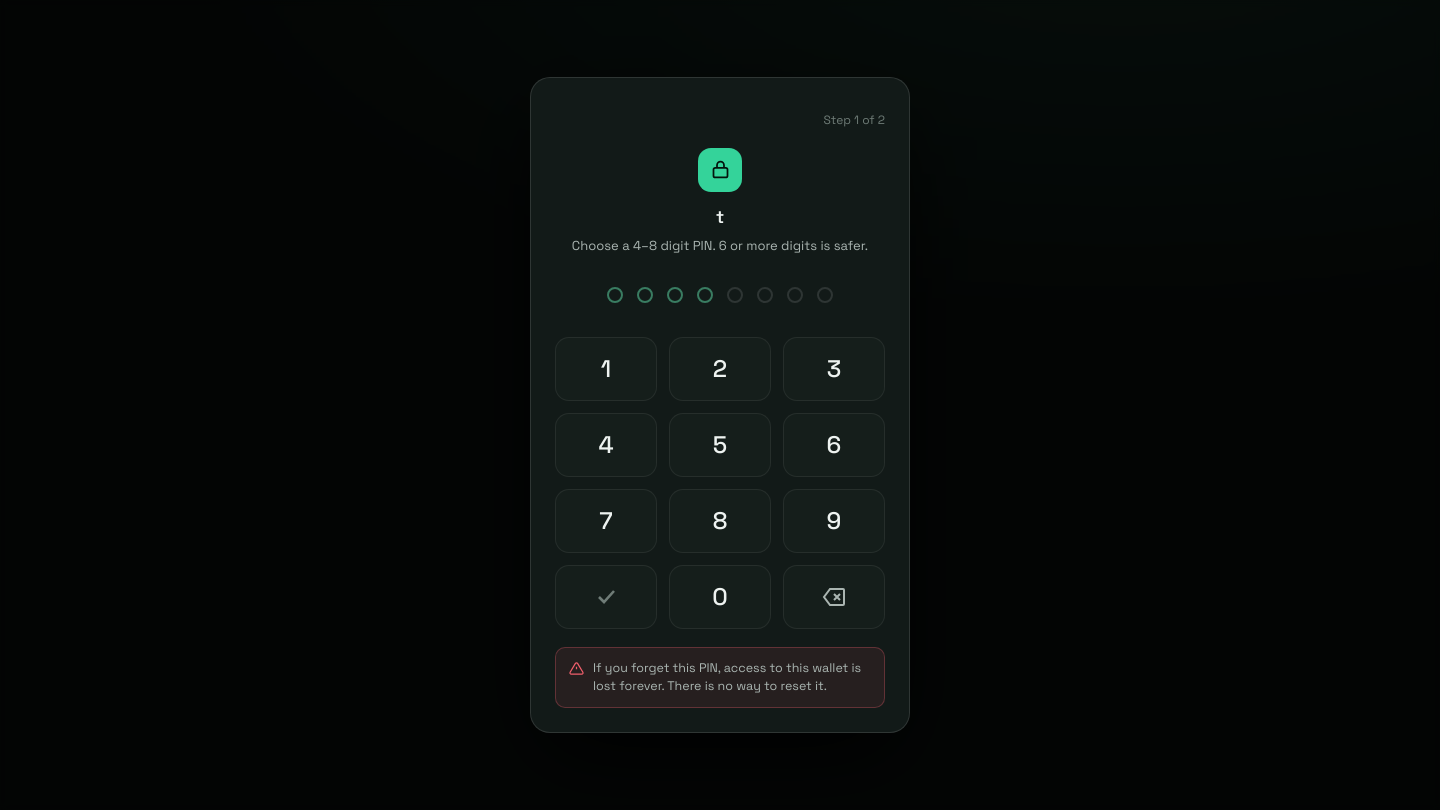
Test: PinSetup › hands over the PIN only after the second entry matches
Later steps or results of the test are not shown.
Check: the text "Step 1 of 2" is shown, box [824, 112, 885, 128]
Click the button "2".
click(720, 369)  # box [669, 337, 771, 401]
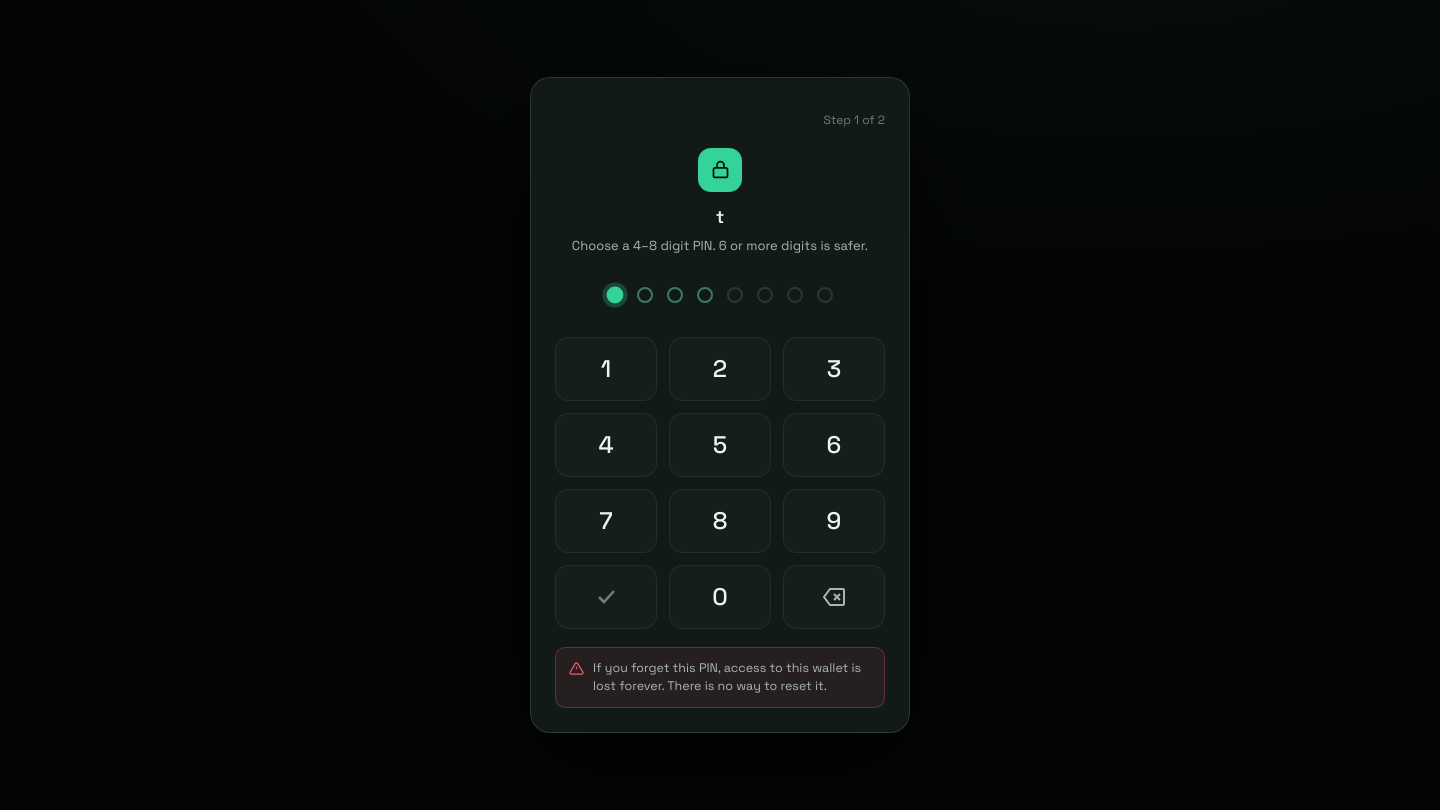
Click the button "5".
click(720, 445)  # box [669, 413, 771, 477]
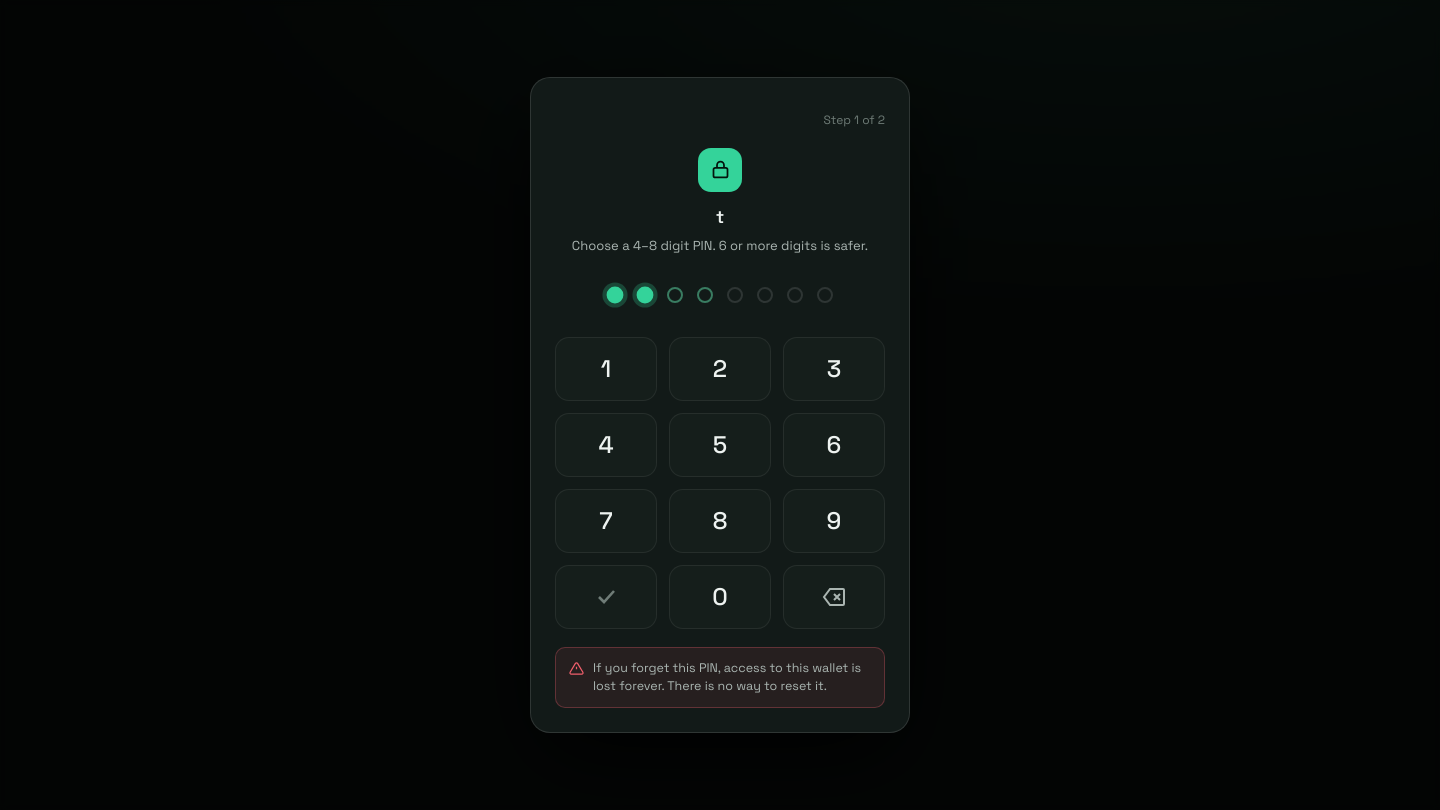
Click the button "8".
click(720, 521)  # box [669, 489, 771, 553]
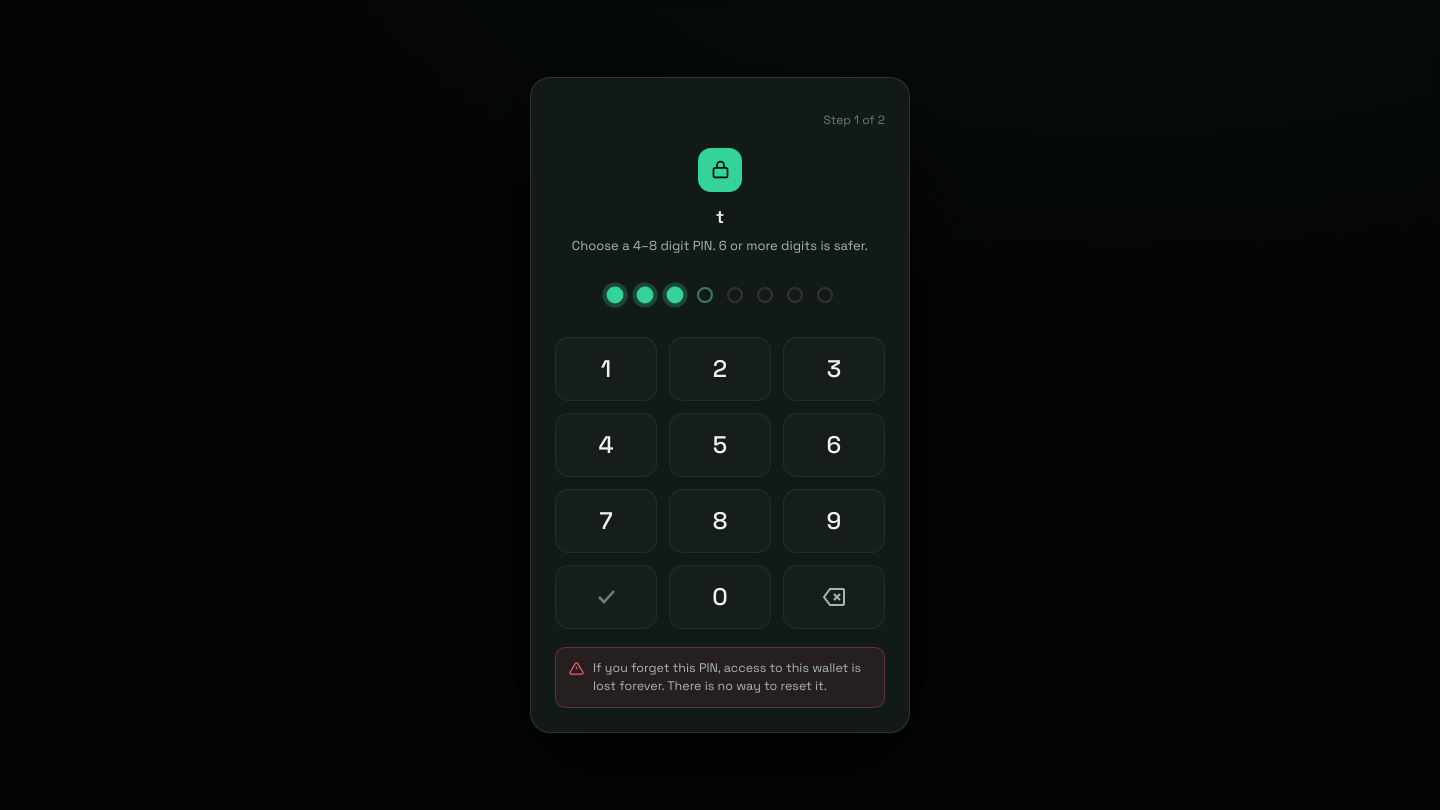
Click the button "0".
click(720, 597)  # box [669, 565, 771, 629]
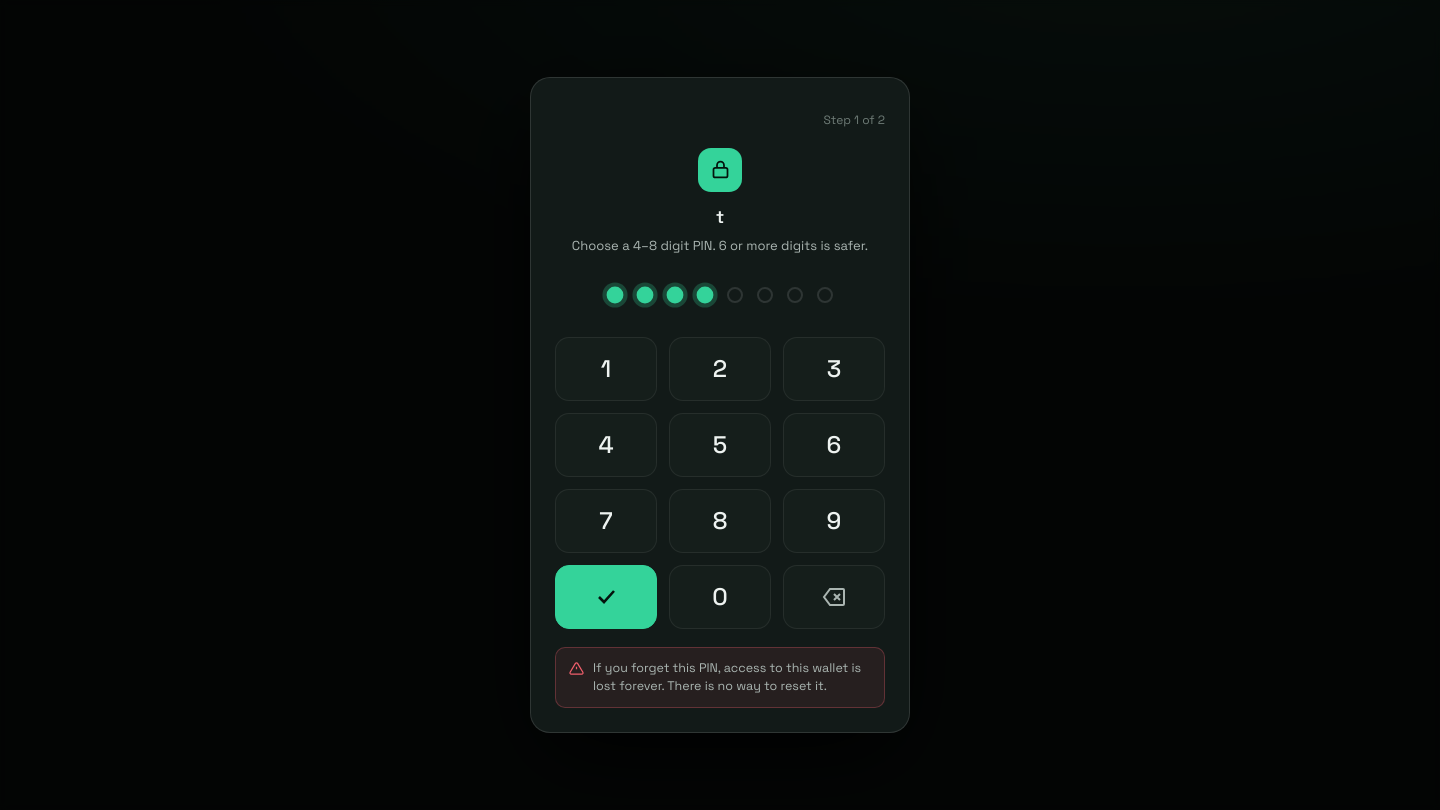
Click the button titled "Confirm".
click(606, 597)  # box [555, 565, 657, 629]
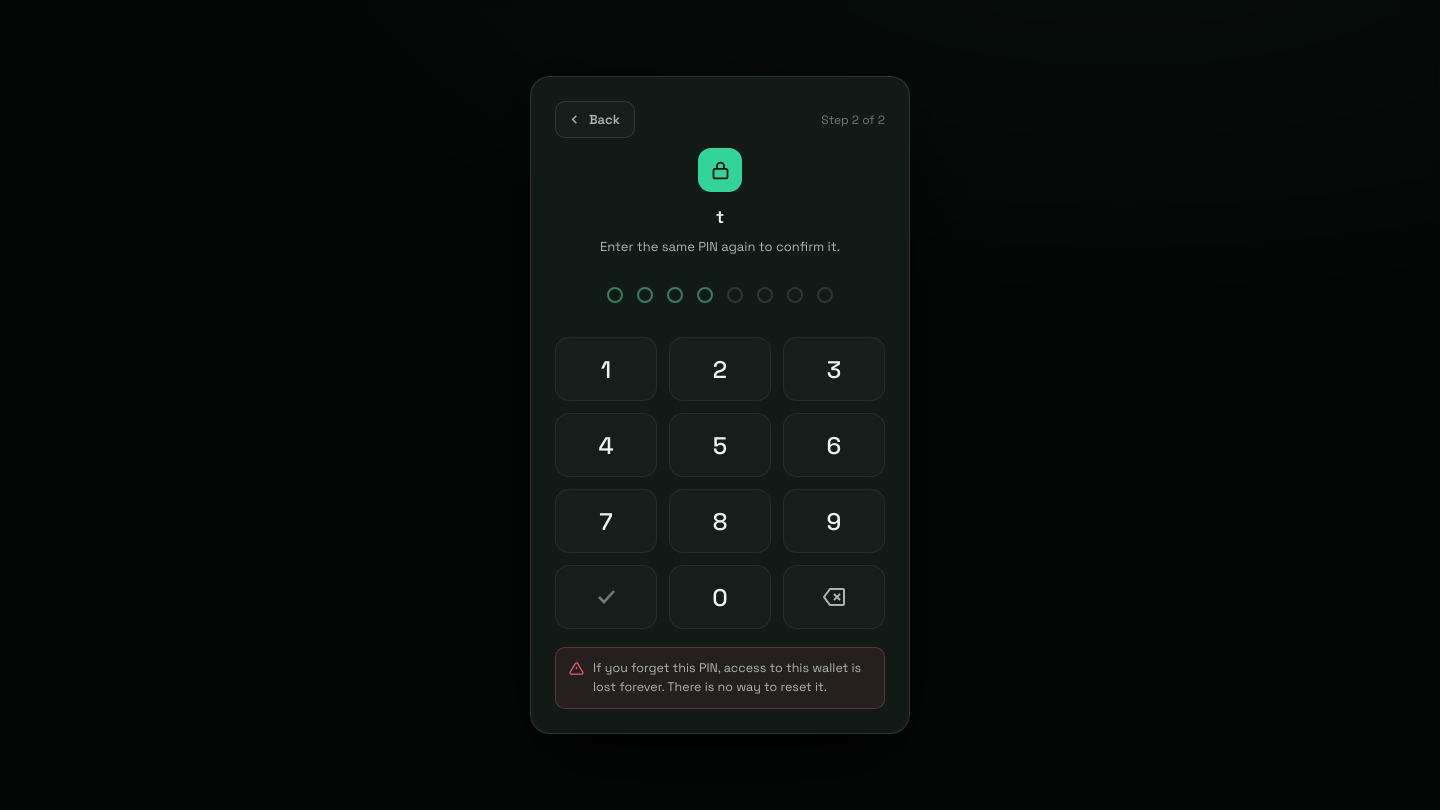
Check: the text "Step 2 of 2" is shown, box [821, 112, 885, 128]
Check: the message shows "same PIN again", box [600, 238, 840, 255]
